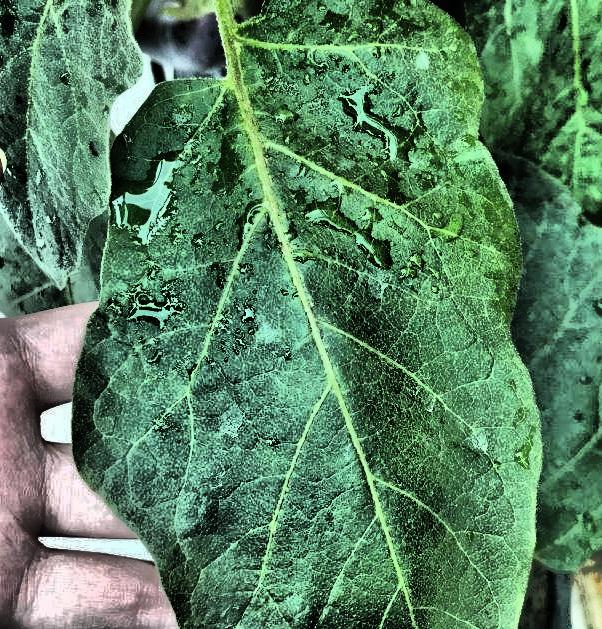HEALTHY: (20, 0, 602, 430)
